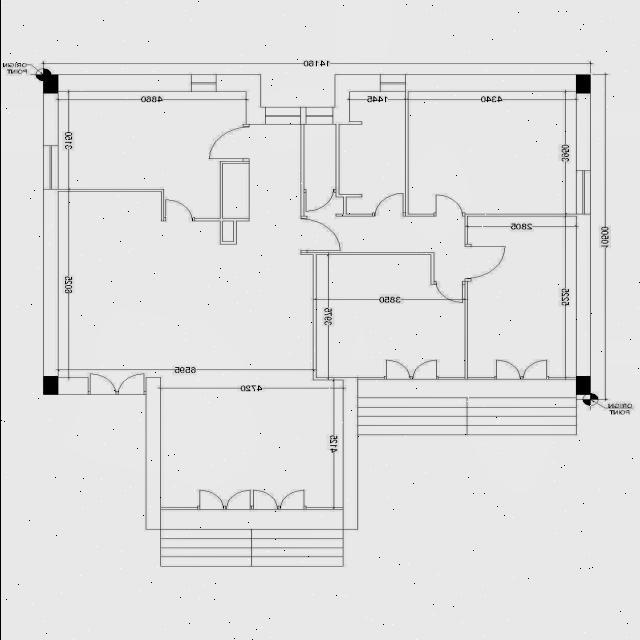Column: (574, 74, 591, 94), (42, 74, 58, 94), (42, 376, 57, 395), (576, 375, 590, 395)
Door: (464, 244, 506, 282), (298, 215, 340, 253), (207, 124, 249, 162), (302, 186, 336, 212), (372, 192, 406, 216), (161, 198, 195, 222), (432, 280, 464, 304), (432, 194, 464, 216)
Double-Door: (87, 372, 145, 396), (493, 359, 549, 381), (382, 359, 438, 380), (251, 489, 305, 510), (197, 489, 251, 510)
Staircase: (355, 382, 577, 436), (158, 512, 344, 568)
Window: (574, 170, 590, 214), (42, 145, 58, 189), (264, 106, 300, 125), (304, 106, 332, 124), (190, 74, 216, 92), (378, 74, 404, 92)
